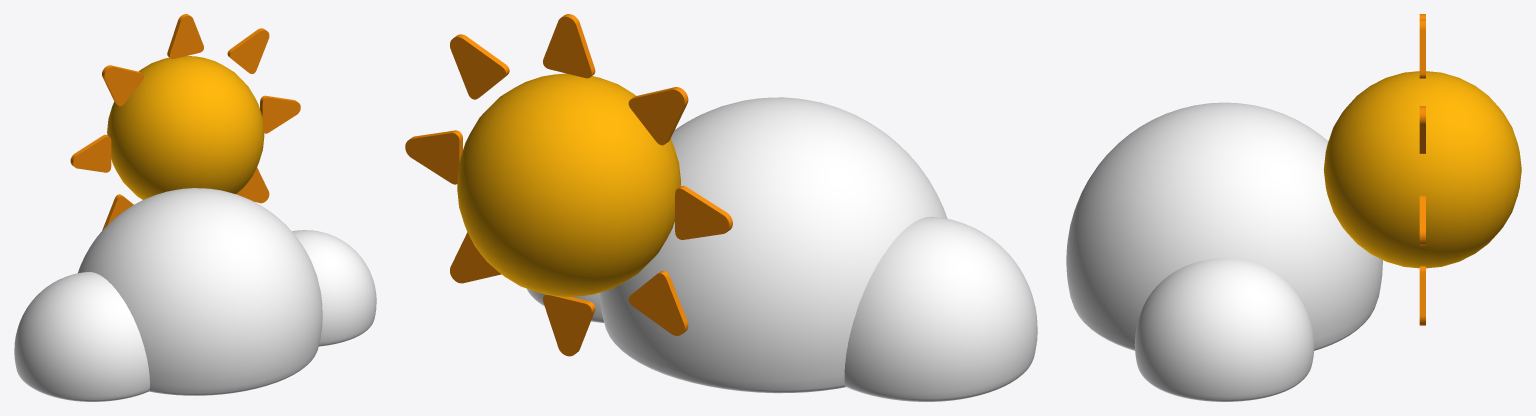
File: sun_behind_cloud.glb
The picture shows the model from 3 angles, left to right: view 1: azimuth 30°, elevation 25°; view 2: azimuth 150°, elevation 25°; view 3: azimuth 270°, elevation 25°; orthographic projection. The views are drawn at different scales.
Visible parts, largest first — view 1: Cube.196; view 2: Cube.196; view 3: Cube.196.
Boxes of the visible parts, x1,y1,x2,y2 form: Cube.196: (14,14,376,401); Cube.196: (405,14,1037,401); Cube.196: (1066,14,1521,401).
Bounding box in the file's own units: 2.22 × 1.54 × 1.97.
Materials: 1 (1 with a texture image).
